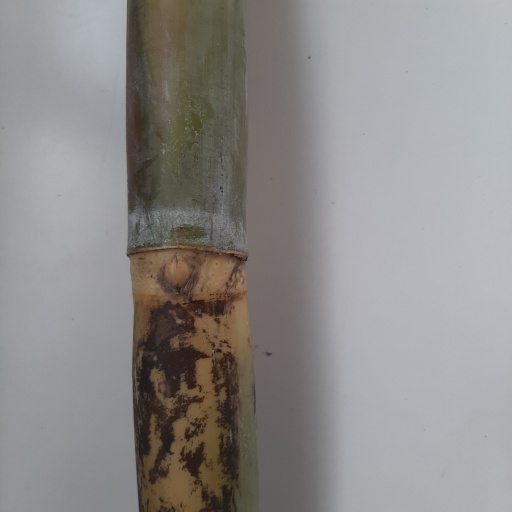Bud: (161, 252, 193, 295)
